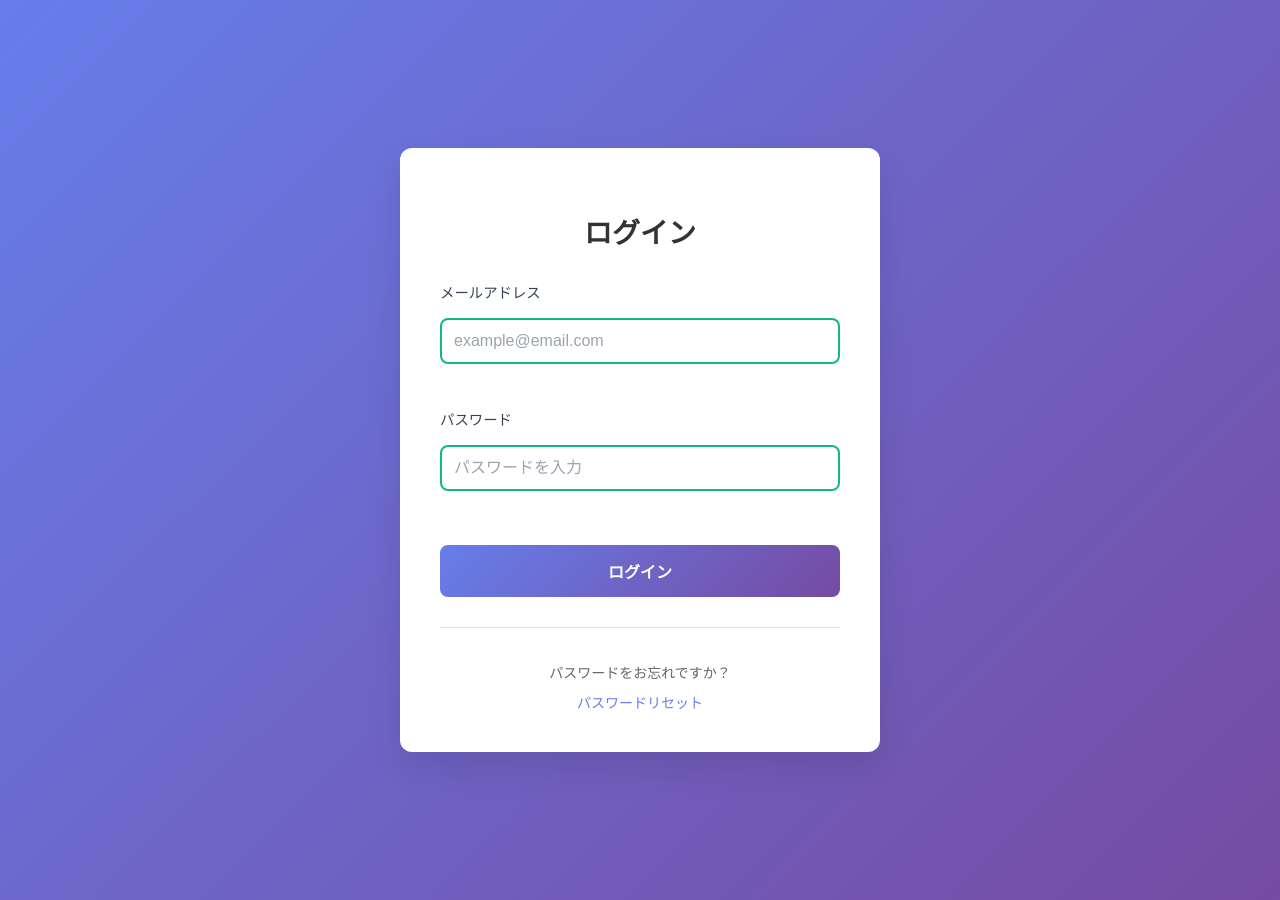
Test: Login Component › displays validation errors for empty fields
Click the button "ログイン" at (640,571), box [440,545,840,597]
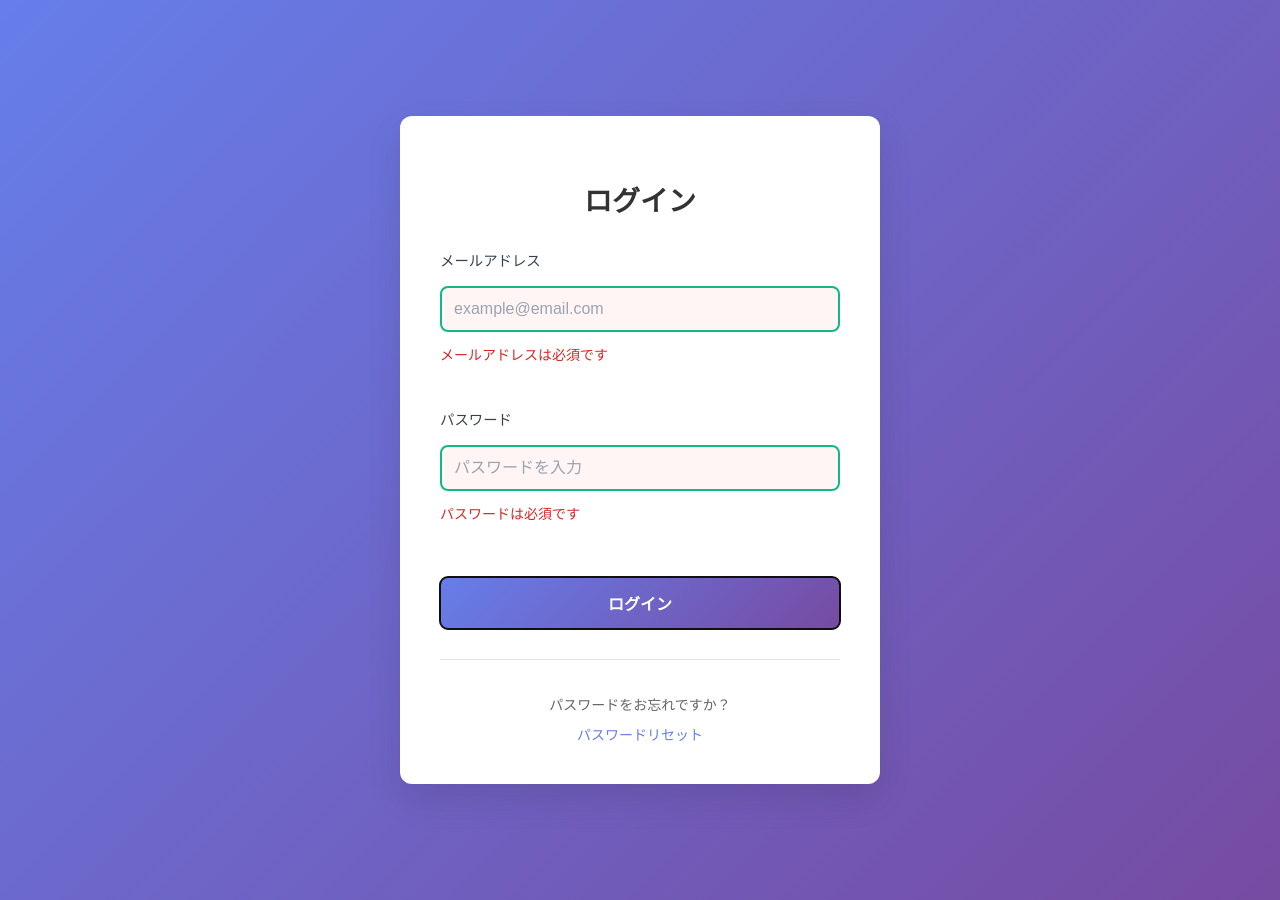
Result: the text "メールアドレスは必須です" is shown at [440,346,608,363]
Result: the text "パスワードは必須です" is shown at [440,505,580,522]
